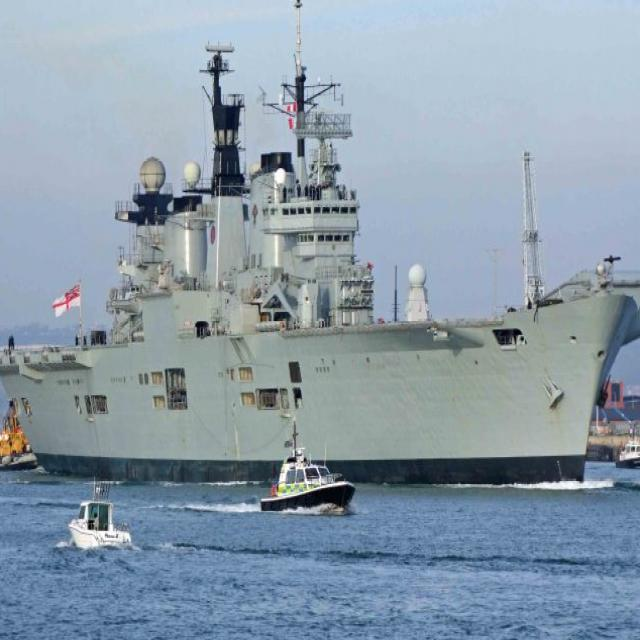Portanaves: (1, 1, 640, 500)
